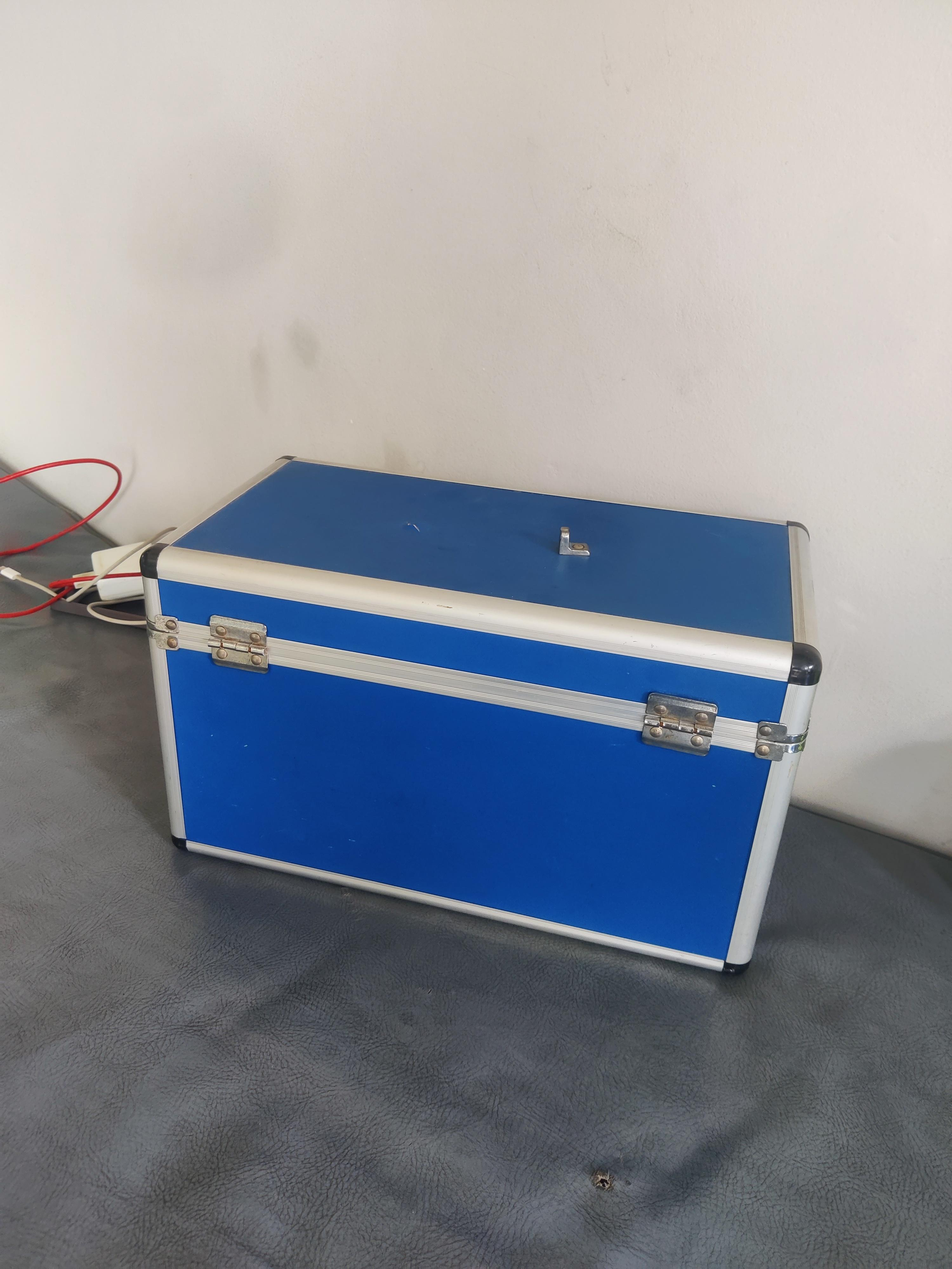FirstAidBox: (119, 410, 849, 1018)
